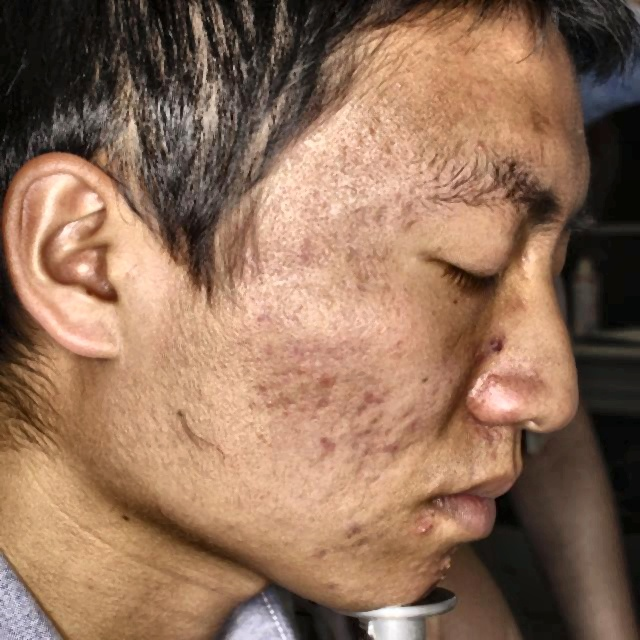pustule: (401, 410, 427, 435), (379, 437, 402, 465), (305, 542, 333, 563), (484, 372, 510, 392), (366, 386, 386, 412), (417, 519, 432, 539), (440, 556, 453, 578)
